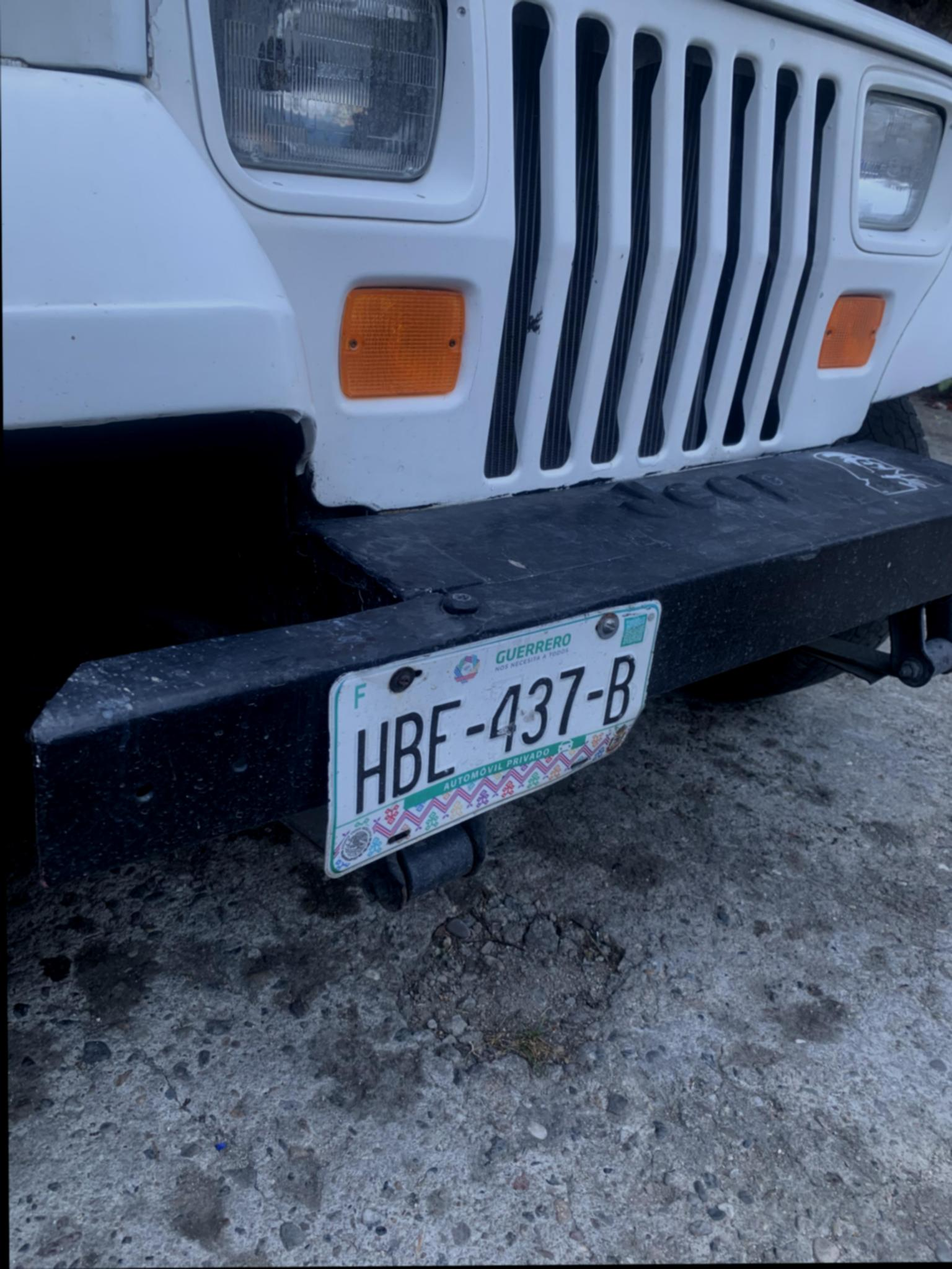License_Plate: (303, 590, 665, 914)
